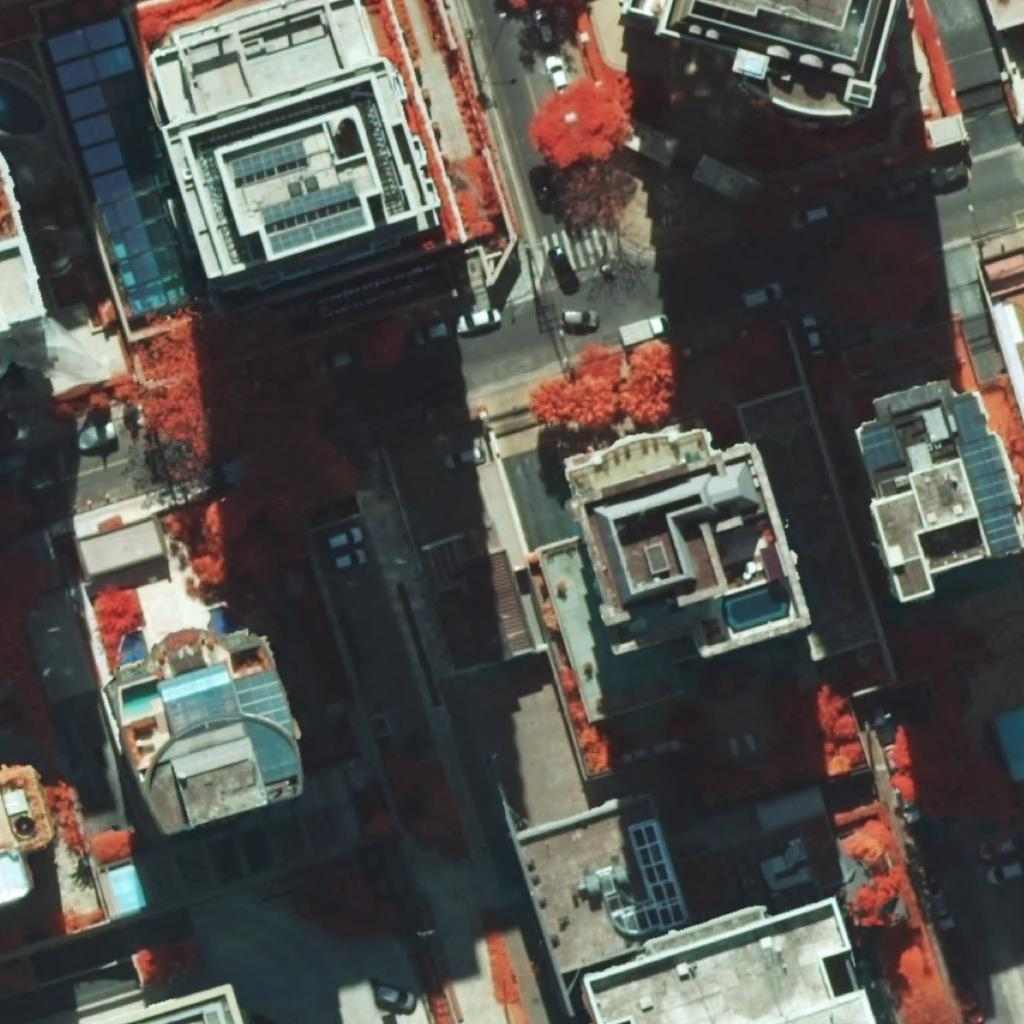pool: (721, 579, 790, 634), (0, 76, 48, 135), (994, 706, 1024, 779), (122, 679, 161, 719), (207, 606, 247, 635), (119, 631, 148, 666)
